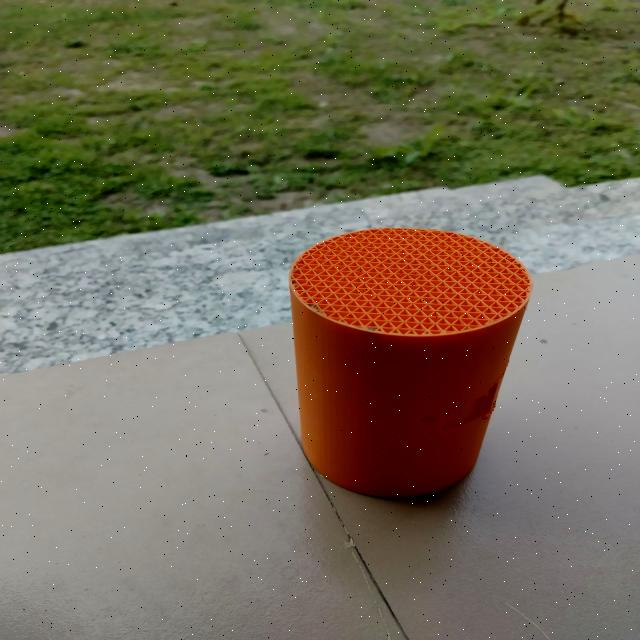Cylinder: (287, 226, 533, 499)
